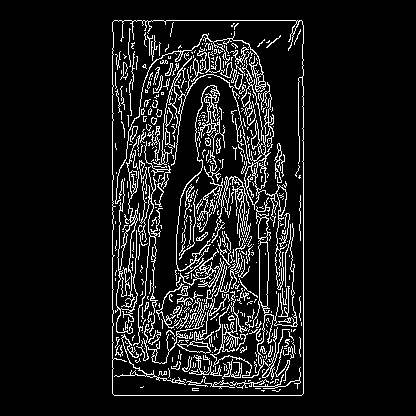buddha-sitting: (100, 232, 212, 291)
